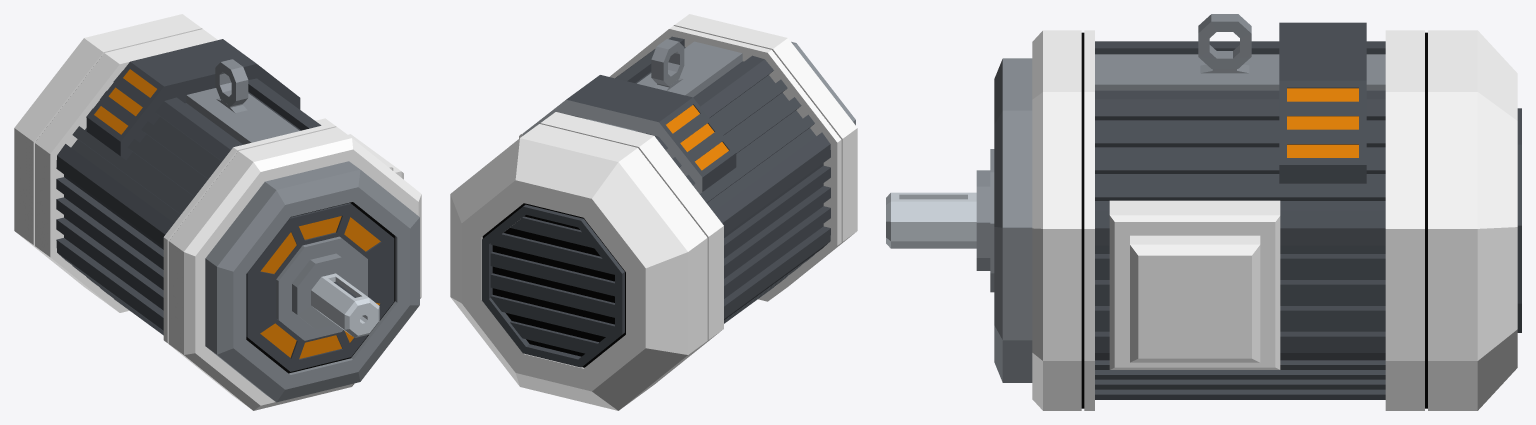
Rendered from SM_Electric_Motor.fbx.
The picture shows the model from 3 angles, left to right: view 1: azimuth 30°, elevation 25°; view 2: azimuth 150°, elevation 25°; view 3: azimuth 270°, elevation 25°; orthographic projection. The views are drawn at different scales.
Visible parts, largest first — view 1: SM_Electric_Motor; view 2: SM_Electric_Motor; view 3: SM_Electric_Motor.
Boxes of the visible parts, x1,y1,x2,y2 form: SM_Electric_Motor: [14, 14, 421, 410]; SM_Electric_Motor: [450, 14, 857, 410]; SM_Electric_Motor: [886, 14, 1521, 410].
Size of the model in its own units: 34.45 by 36.17 by 57.51.
